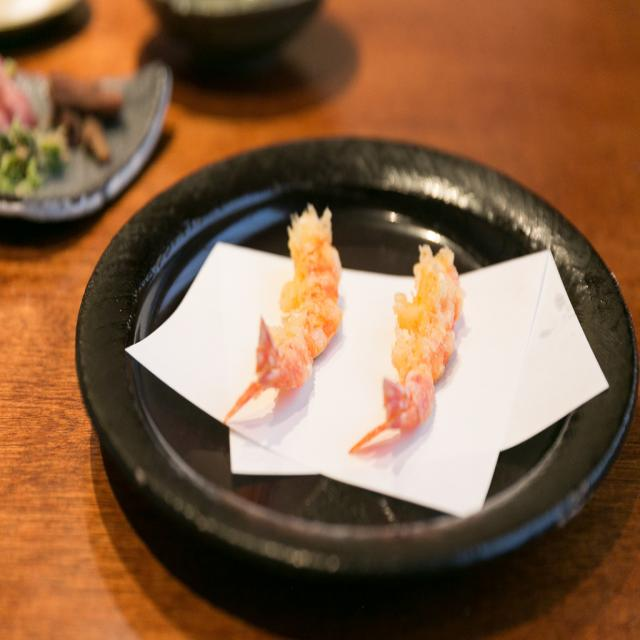non-organic waste: (62, 130, 640, 616)
